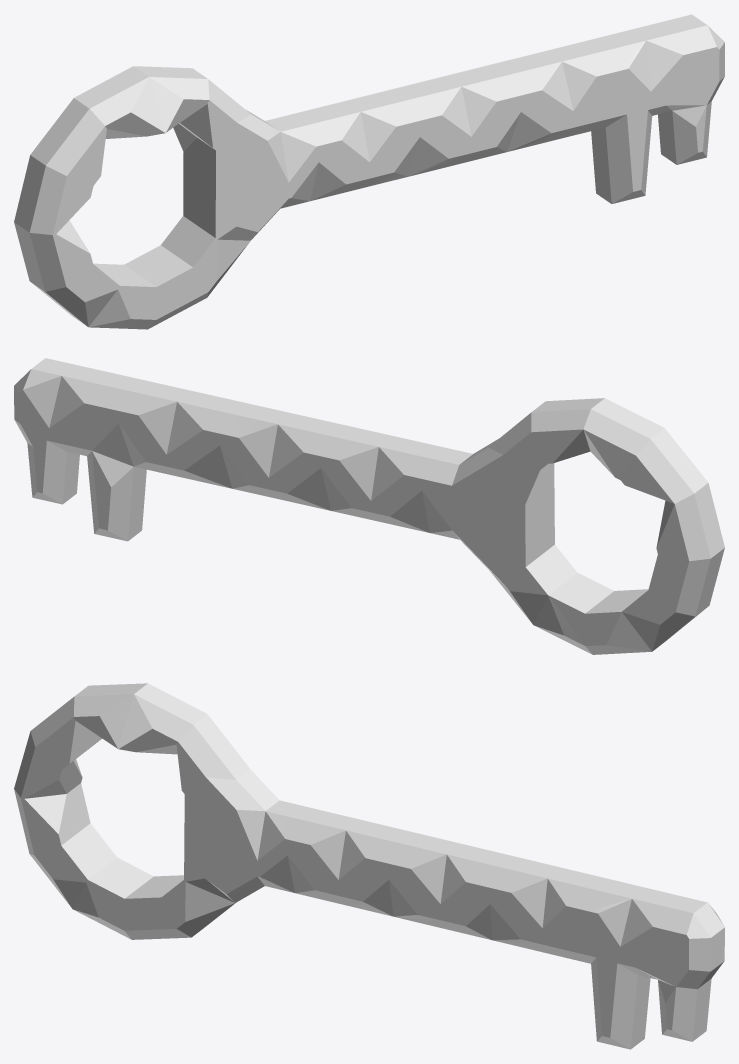
The model's file is white_key.glb.
3 renders of one model, top to bottom at view 1: azimuth 30°, elevation 25°; view 2: azimuth 150°, elevation 25°; view 3: azimuth 330°, elevation 25°, orthographic. The views are drawn at different scales.
Parts seen in each view (by area): view 1: Circle.024; view 2: Circle.024; view 3: Circle.024.
Part boxes in pixels (bbox=[...]): Circle.024: bbox=[14, 14, 724, 329]; Circle.024: bbox=[14, 358, 724, 654]; Circle.024: bbox=[14, 683, 724, 1049].
Bounding box in the file's own units: 1.89 × 0.6456 × 0.2172.
1 material, 1 textured.
